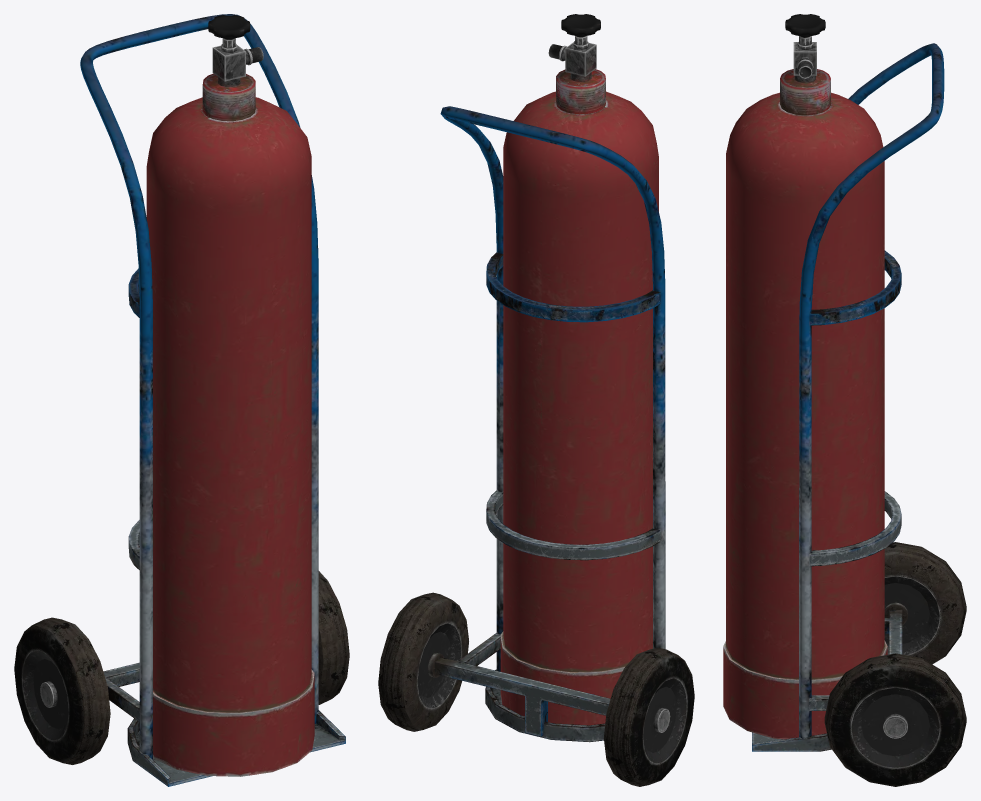
Rendered from gas_ballon_with_handtruck-opt.glb.
The picture shows the model from 3 angles, left to right: view 1: azimuth 30°, elevation 25°; view 2: azimuth 150°, elevation 25°; view 3: azimuth 270°, elevation 25°; orthographic projection. The views are drawn at different scales.
Visible parts, largest first — view 1: Cube_excess_oxygenCylinder_0, Cylinder.004_excess_oxygenCylinderHandTruck_0; view 2: Cube_excess_oxygenCylinder_0, Cylinder.004_excess_oxygenCylinderHandTruck_0; view 3: Cube_excess_oxygenCylinder_0, Cylinder.004_excess_oxygenCylinderHandTruck_0.
Boxes of the visible parts, left/top/right/bottom form: Cube_excess_oxygenCylinder_0: left=146, top=15, right=314, bottom=776; Cylinder.004_excess_oxygenCylinderHandTruck_0: left=14, top=14, right=349, bottom=786; Cube_excess_oxygenCylinder_0: left=500, top=14, right=658, bottom=725; Cylinder.004_excess_oxygenCylinderHandTruck_0: left=378, top=106, right=694, bottom=786; Cube_excess_oxygenCylinder_0: left=723, top=14, right=887, bottom=739; Cylinder.004_excess_oxygenCylinderHandTruck_0: left=752, top=43, right=966, bottom=786.
Bounding box in the file's own units: 0.0226 × 0.0587 × 0.0183.
2 materials, 2 textured.
